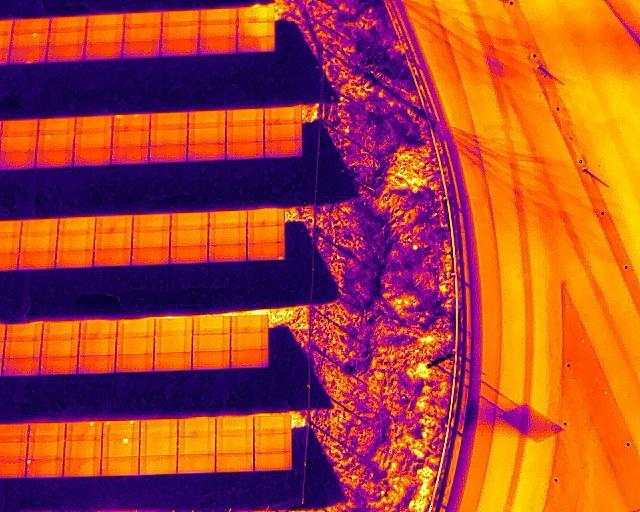Cell: (102, 437, 140, 458), (247, 242, 285, 261), (26, 459, 64, 478), (65, 421, 102, 440), (36, 135, 74, 150), (11, 31, 49, 46)
Cell-Multi: (102, 419, 140, 437), (113, 113, 150, 131)
No-Anomaly: (254, 450, 292, 471), (178, 453, 216, 474), (139, 454, 177, 475), (78, 336, 116, 356), (216, 453, 254, 473), (209, 243, 248, 262), (116, 335, 155, 354), (153, 352, 192, 371), (192, 350, 229, 370), (94, 248, 132, 267), (188, 110, 226, 129), (192, 333, 230, 352), (230, 348, 268, 367), (216, 416, 254, 435), (101, 457, 139, 476), (40, 356, 78, 375), (140, 435, 178, 454), (30, 422, 66, 442), (65, 458, 102, 477), (5, 322, 42, 341), (178, 417, 215, 436), (65, 439, 102, 458), (170, 245, 208, 263), (131, 248, 169, 266), (170, 228, 208, 246), (95, 215, 133, 233), (247, 208, 285, 226), (0, 118, 38, 136), (154, 335, 192, 353), (215, 435, 253, 453), (56, 250, 93, 268), (247, 225, 284, 243), (264, 138, 301, 156), (41, 339, 78, 357), (254, 433, 291, 451), (178, 435, 215, 453), (254, 415, 291, 433), (28, 441, 65, 459), (2, 358, 39, 376), (78, 355, 115, 373), (231, 315, 267, 333), (22, 218, 58, 236), (43, 321, 79, 339), (209, 211, 247, 228), (57, 234, 95, 251), (149, 145, 187, 162), (35, 149, 73, 166), (74, 147, 112, 164), (226, 141, 264, 158), (79, 320, 117, 337), (116, 354, 154, 371), (9, 45, 47, 62), (200, 37, 238, 54), (0, 150, 35, 168), (21, 235, 58, 252), (20, 252, 57, 269), (133, 231, 170, 248), (171, 212, 208, 229), (58, 217, 95, 234), (75, 131, 112, 148), (150, 114, 187, 131), (38, 118, 75, 135), (264, 106, 301, 123), (140, 419, 177, 436), (86, 42, 123, 59), (193, 316, 229, 333), (4, 341, 40, 358), (208, 228, 246, 244), (226, 126, 264, 142), (188, 128, 226, 144), (75, 117, 113, 133), (226, 110, 264, 126), (155, 318, 193, 334), (117, 319, 155, 335), (231, 333, 269, 349), (200, 8, 238, 24), (47, 45, 85, 61), (161, 40, 199, 56), (49, 29, 87, 45), (264, 123, 301, 139), (95, 233, 132, 249), (133, 215, 170, 231), (188, 143, 225, 159), (112, 147, 149, 163), (112, 131, 149, 147), (238, 37, 275, 53), (162, 10, 199, 26), (236, 22, 275, 37), (124, 40, 160, 56), (162, 25, 200, 40), (87, 28, 125, 43), (88, 13, 126, 28), (12, 18, 52, 32), (0, 135, 37, 150), (150, 130, 187, 145), (125, 26, 162, 41), (124, 12, 162, 26), (0, 425, 29, 443), (238, 7, 274, 21), (52, 16, 88, 30), (0, 442, 27, 460), (0, 459, 26, 477), (201, 24, 237, 37)
